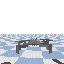drone: (15, 38, 53, 54)
